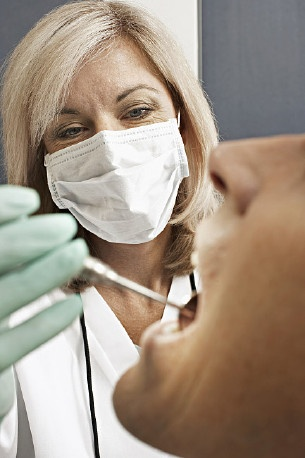Mask: (29, 79, 198, 248)
